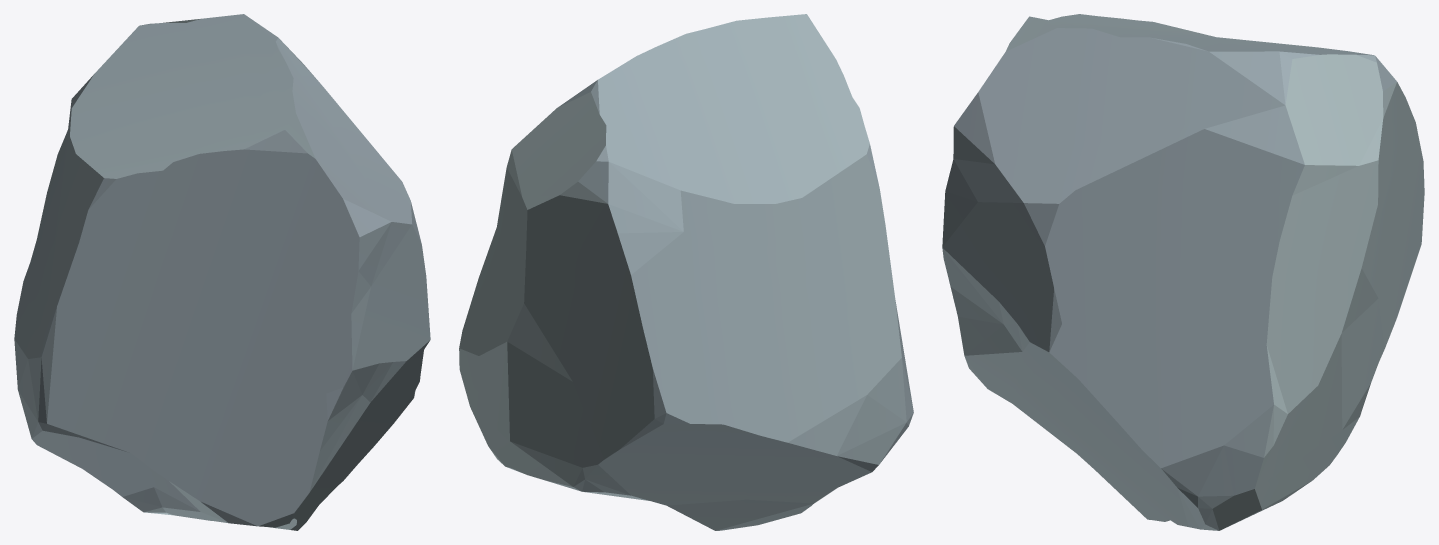
Rendered from Rock.fbx.
The picture shows the model from 3 angles, left to right: view 1: azimuth 30°, elevation 25°; view 2: azimuth 150°, elevation 25°; view 3: azimuth 270°, elevation 25°; orthographic projection.
Visible parts, largest first — view 1: Cube; view 2: Cube; view 3: Cube.
Part boxes in pixels (box(x1,y1,x2,y2)): Cube: box(14, 14, 430, 530); Cube: box(459, 14, 913, 530); Cube: box(942, 14, 1424, 530).
Bounding box in the file's own units: 172 × 195 × 179.
